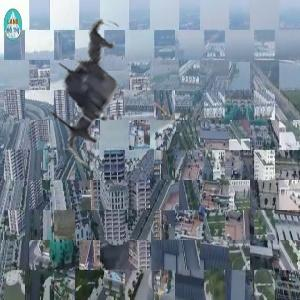drone: (21, 19, 171, 169)
